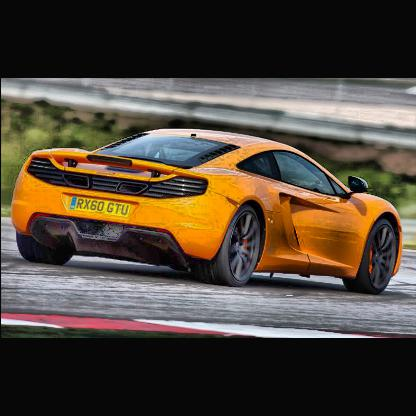McLaren MP4-12C Coupe 2012: (12, 129, 400, 296)
